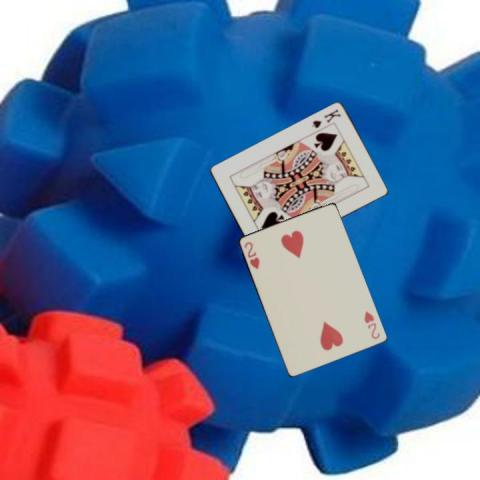2h: (361, 308, 381, 341), (240, 238, 260, 270)
Ks: (309, 107, 342, 130)
